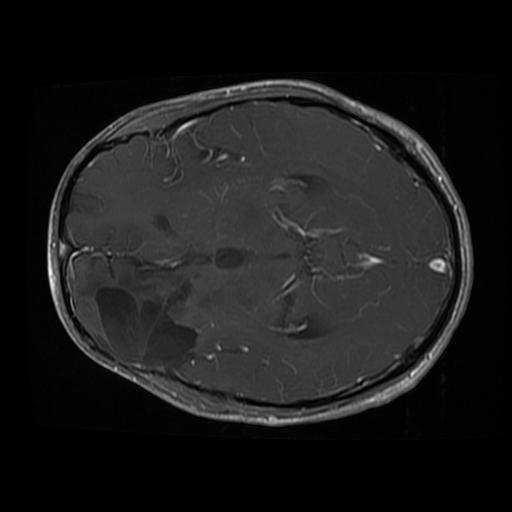glioma: (93, 278, 196, 368)
